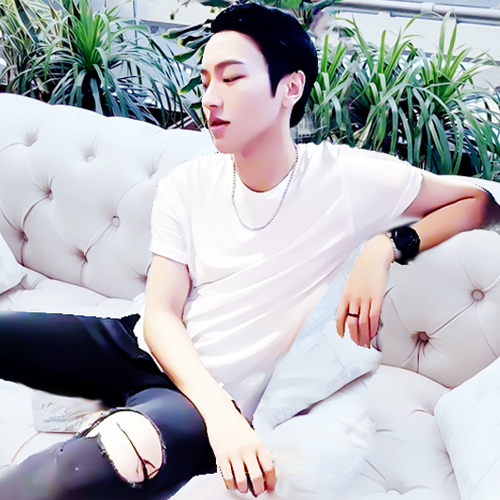person: (60, 12, 388, 419)
